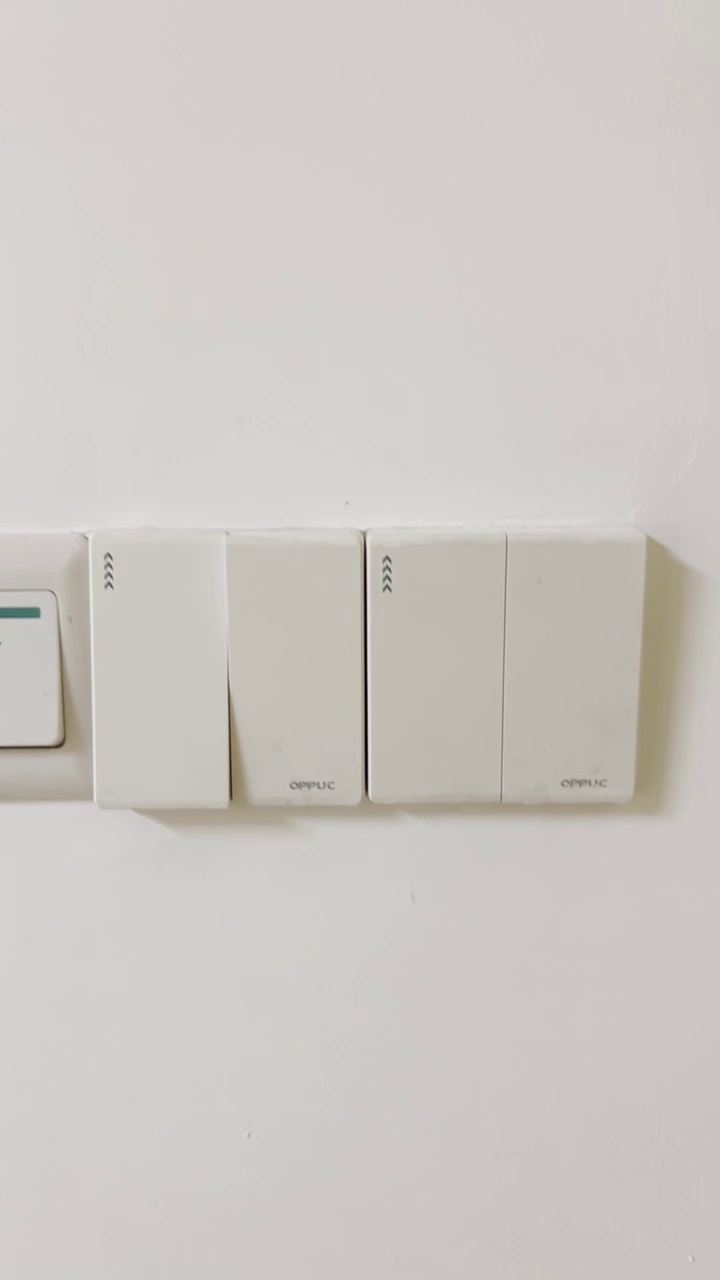button1: (92, 533, 224, 804), (230, 533, 357, 802), (375, 534, 500, 801), (513, 537, 638, 801)
